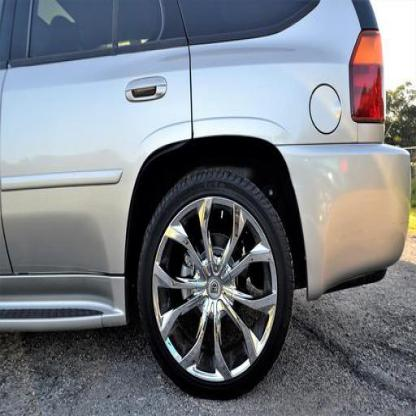Tire: (137, 166, 295, 402)
